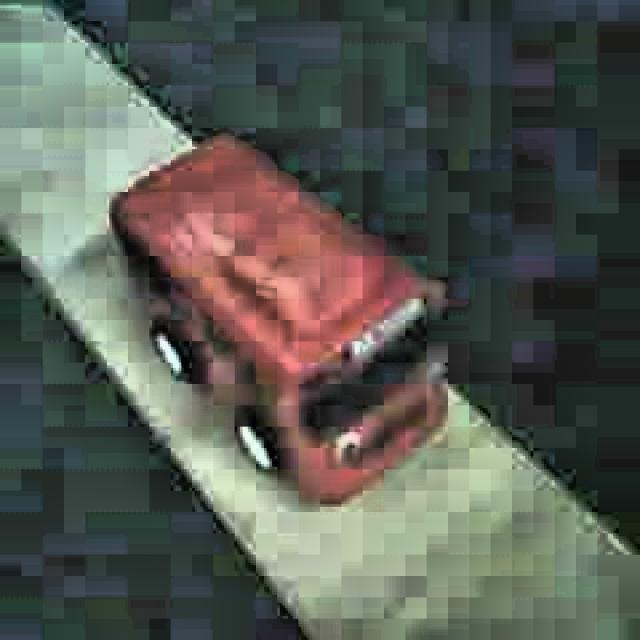bus: (107, 130, 447, 510)
